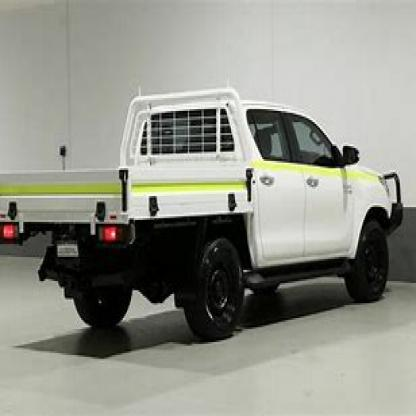light_vehicle: (2, 81, 410, 340)
